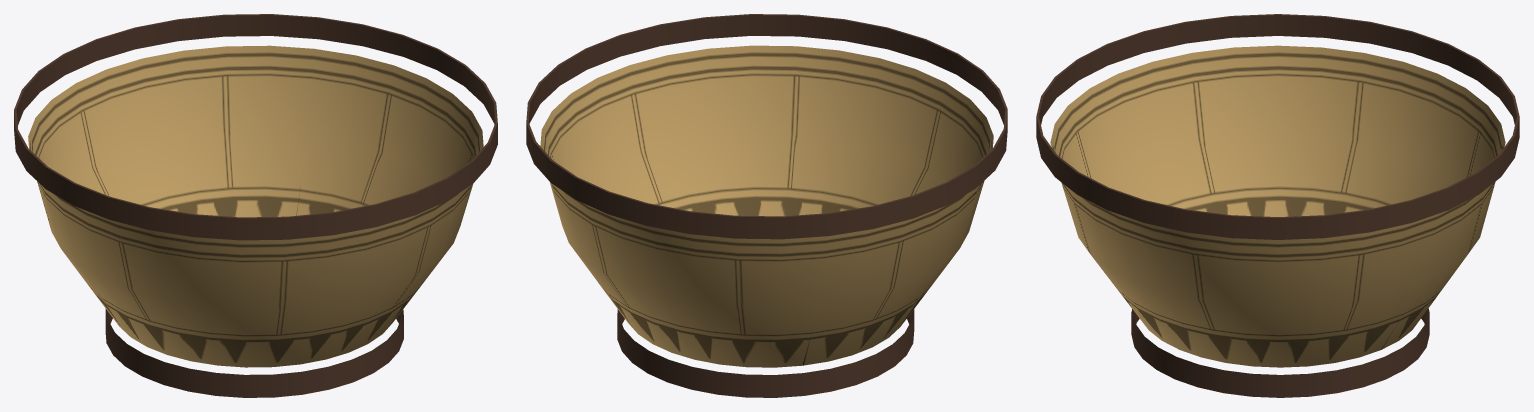
File: Pot.fbx
3 renders of one model, left to right at view 1: azimuth 30°, elevation 25°; view 2: azimuth 150°, elevation 25°; view 3: azimuth 270°, elevation 25°, orthographic.
Visible parts, largest first — view 1: Pot; view 2: Pot; view 3: Pot.
Part boxes in pixels (x1,y1,x2,y2): Pot: (14, 14, 497, 397); Pot: (526, 14, 1007, 397); Pot: (1036, 14, 1519, 397).
Size of the model in its own units: 2 by 1 by 2.
